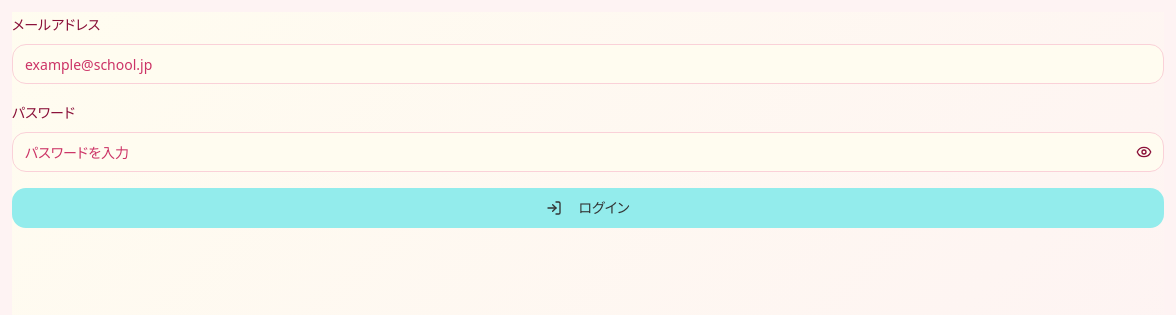
it: LoginForm › displays error message on login failure
This screenshot has width=1176, height=315.
Type "test@example.com" into the field labelled "メールアドレス" at (588, 64), box left=12, top=44, right=1164, bottom=84
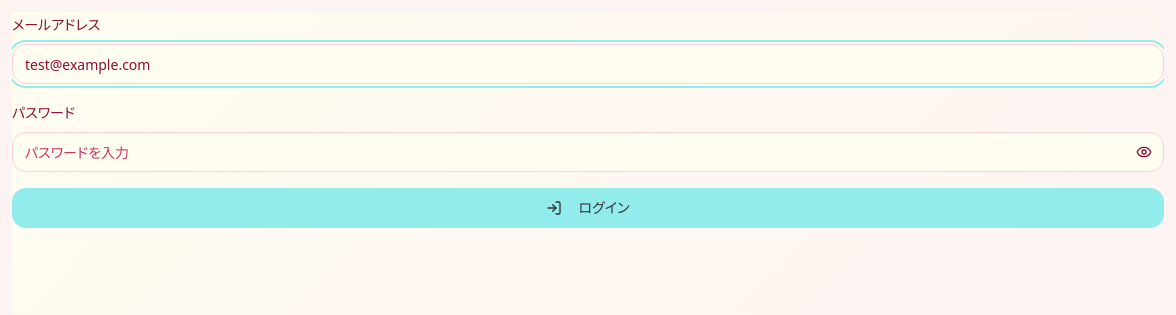
Type "WrongPassword123" into the password field with placeholder "パスワードを入力" at (588, 152), box left=12, top=132, right=1164, bottom=172
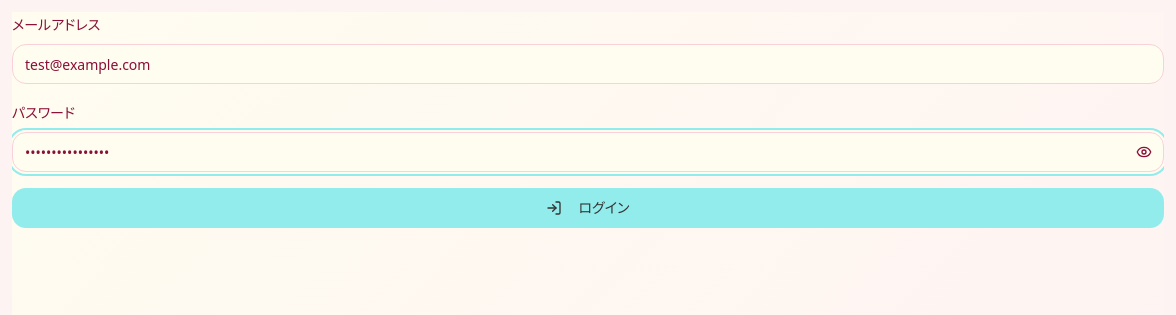
Click the button "ログイン" at (588, 208), box left=12, top=188, right=1164, bottom=228
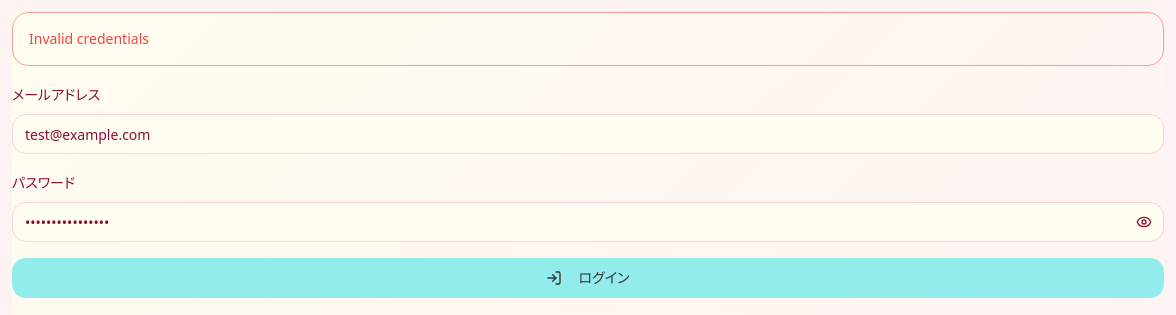
Expected: the text "Invalid credentials" is shown, left=29, top=29, right=149, bottom=48
